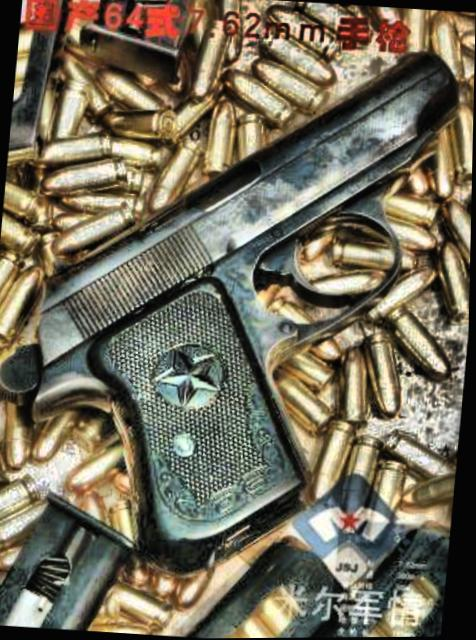pistol: (0, 18, 462, 583)
